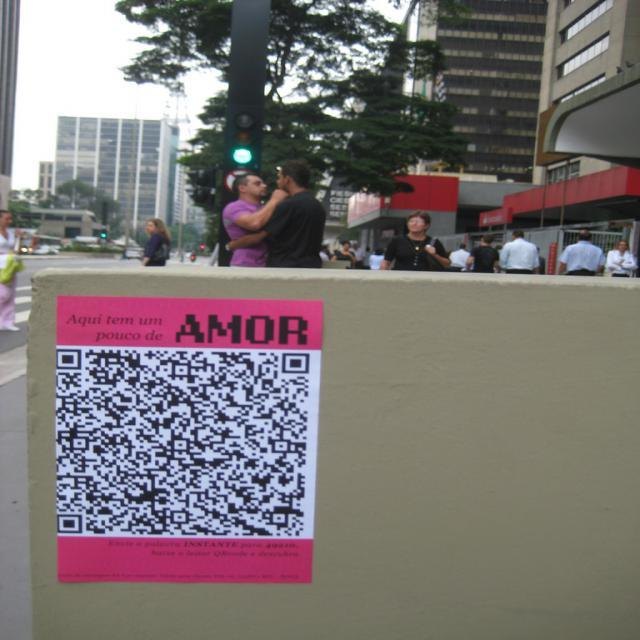qrcode: (57, 350, 310, 537)
